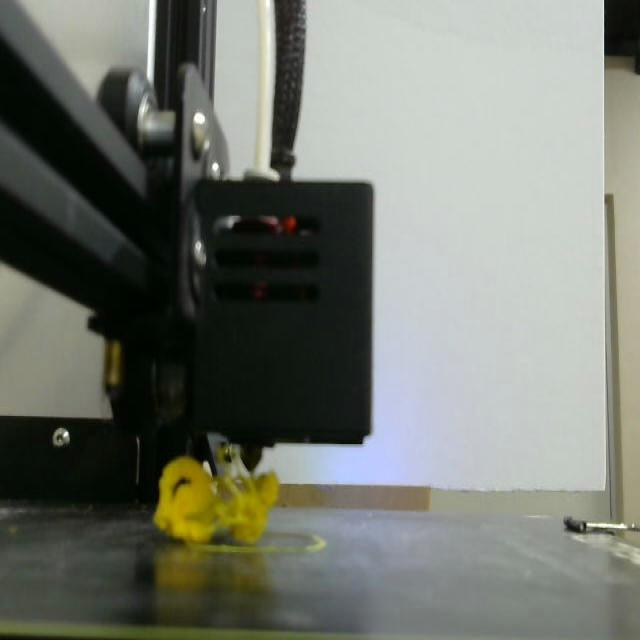spaghetti: (152, 452, 285, 554)
